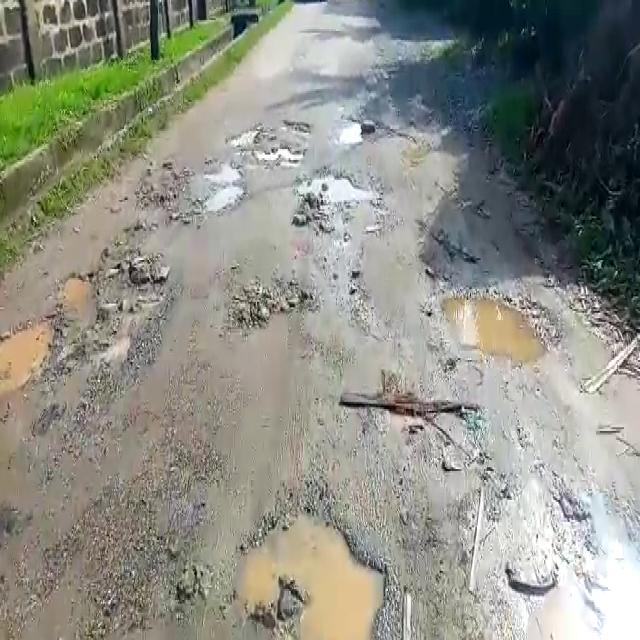Pothole: (209, 490, 397, 640), (444, 284, 564, 360), (65, 258, 170, 328), (0, 307, 60, 393), (290, 170, 380, 215), (203, 161, 249, 211), (253, 144, 305, 164), (338, 119, 364, 150), (281, 116, 311, 140)
